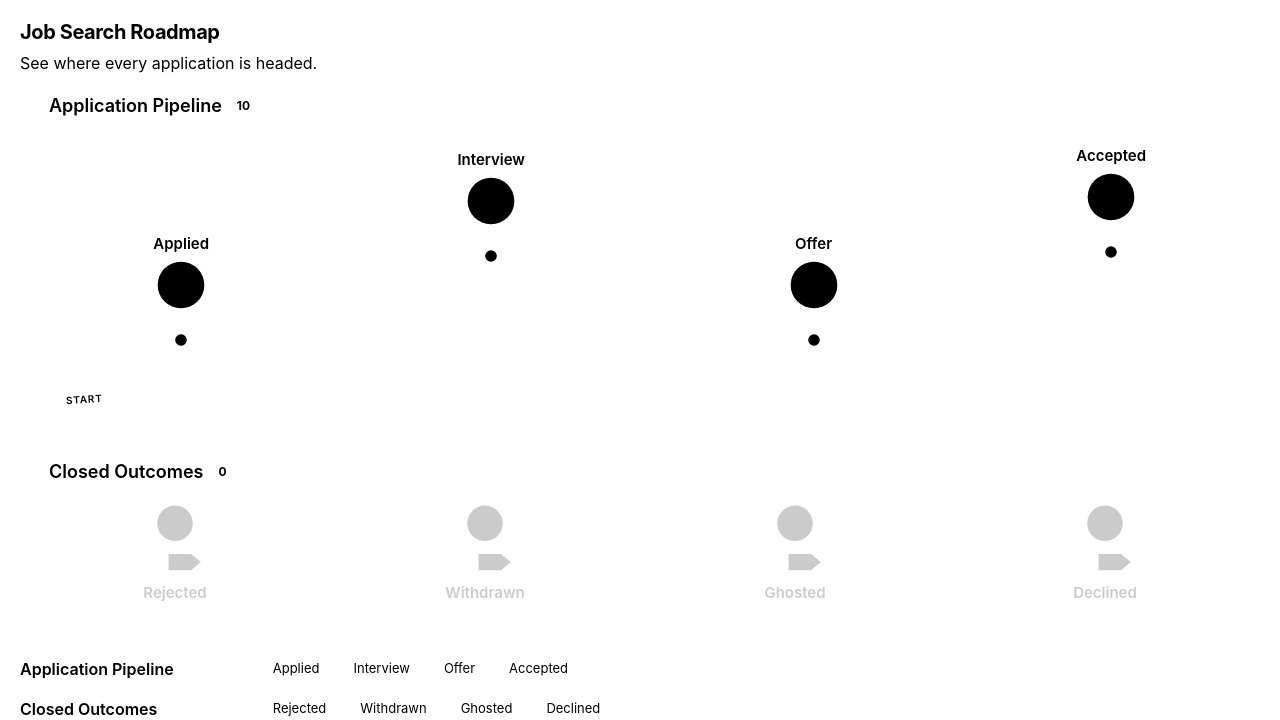
it: Dashboard V2 › keeps pipeline markers and the complete road fixed while a checkpoint is hidden
Click the button with aria-label "Hide Interview stage" at (374, 669), box [338, 659, 410, 679]
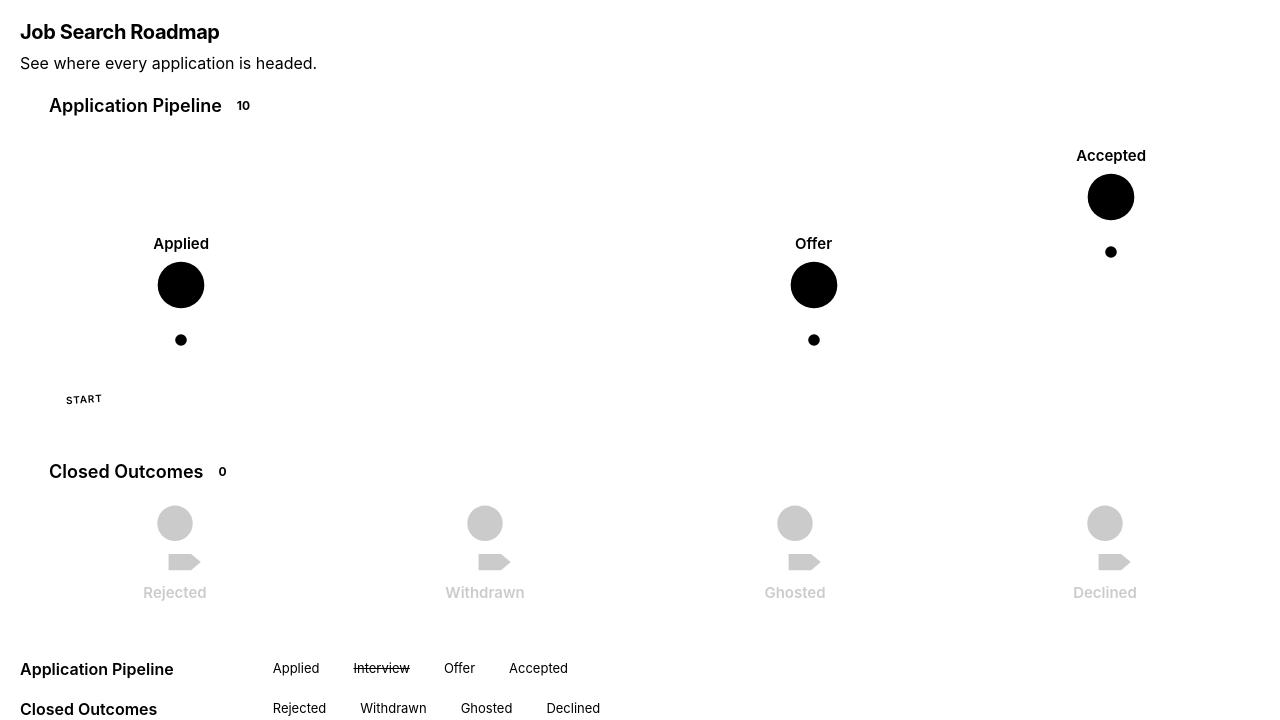
Result: the button with aria-label "Show Interview stage" is shown at [338, 659, 410, 679]
